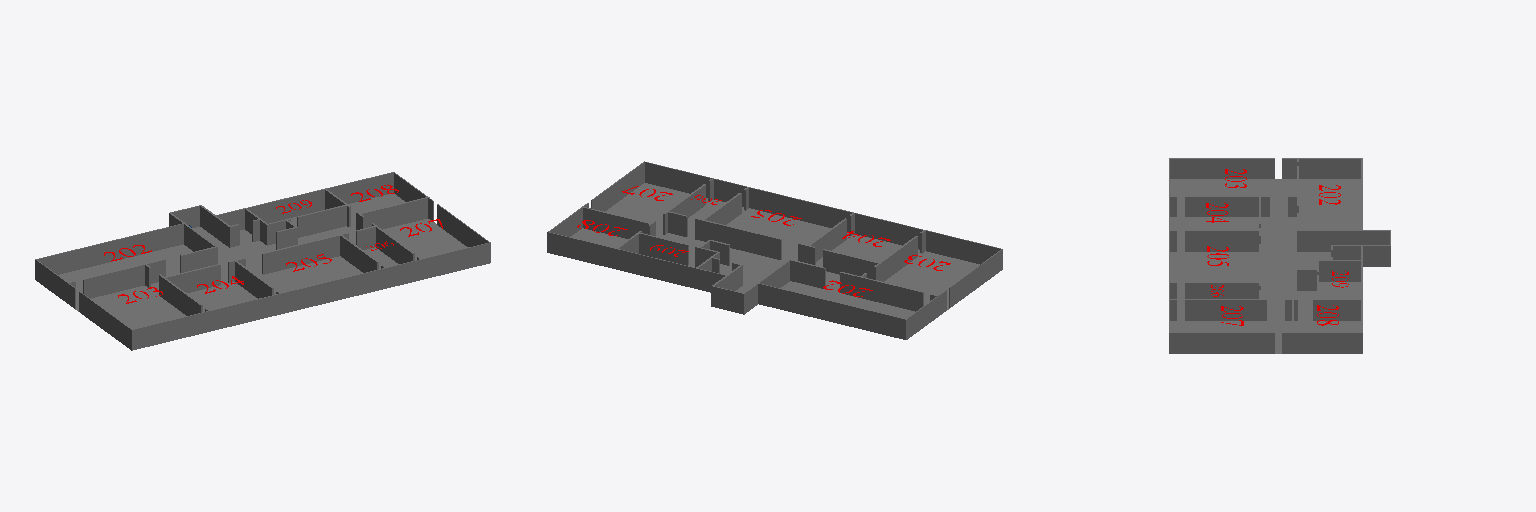
Rendered from fey1.obj.
3 views of the same model, side by side, from view 1: azimuth 30°, elevation 25°; view 2: azimuth 150°, elevation 25°; view 3: azimuth 270°, elevation 25° (orthographic).
Visible parts, largest first — view 1: polySurface1, pCube1, pCube2, pCube3, pCube33, pCube20, pCube31, pCube4, pCube54, pCube19, pCube39, pCube14 (+8 smaller); view 2: polySurface1, pCube1, pCube2, pCube3, pCube33, pCube20, pCube4, pCube31, pCube39, pCube54, pCube19, pCube14 (+8 smaller); view 3: polySurface1, pCube39, pCube4, pCube47, pCube38, pCube14, pCube9, pCube45, pCube43, pCube49, pCube10, pCube53 (+1 smaller).
Part boxes in pixels (bbox=[...]): polySurface1: bbox=[58, 194, 467, 328]; pCube1: bbox=[131, 242, 490, 350]; pCube2: bbox=[216, 172, 393, 229]; pCube3: bbox=[37, 223, 183, 274]; pCube33: bbox=[262, 233, 348, 274]; pCube20: bbox=[83, 259, 165, 298]; pCube31: bbox=[358, 197, 429, 229]; pCube4: bbox=[79, 291, 132, 350]; pCube54: bbox=[297, 205, 346, 237]; pCube19: bbox=[163, 264, 220, 295]; pCube39: bbox=[437, 204, 490, 246]; pCube14: bbox=[35, 259, 75, 308]; polySurface1: bbox=[571, 183, 979, 318]; pCube1: bbox=[644, 161, 1000, 264]; pCube2: bbox=[547, 232, 725, 292]; pCube3: bbox=[758, 283, 906, 339]; pCube33: bbox=[695, 218, 781, 259]; pCube20: bbox=[840, 272, 923, 311]; pCube4: bbox=[949, 249, 1002, 307]; pCube31: bbox=[582, 206, 649, 238]; pCube39: bbox=[591, 162, 644, 211]; pCube54: bbox=[638, 232, 688, 265]; pCube19: bbox=[823, 249, 878, 279]; pCube14: bbox=[905, 290, 946, 339]; polySurface1: bbox=[1170, 179, 1360, 353]; pCube39: bbox=[1169, 333, 1274, 353]; pCube4: bbox=[1170, 158, 1274, 178]; pCube47: bbox=[1185, 299, 1266, 320]; pCube38: bbox=[1282, 333, 1362, 353]; pCube14: bbox=[1282, 158, 1360, 178]; pCube9: bbox=[1299, 230, 1390, 251]; pCube45: bbox=[1185, 230, 1258, 251]; pCube43: bbox=[1185, 196, 1258, 216]; pCube49: bbox=[1185, 282, 1258, 298]; pCube10: bbox=[1331, 245, 1390, 266]; pCube53: bbox=[1313, 299, 1360, 320].
Bounding box in the file's own units: 3644 × 202 × 1950.